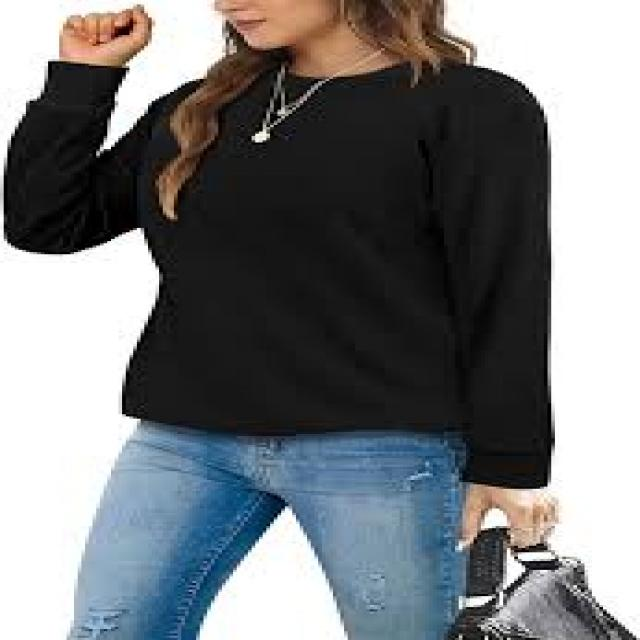plain: (19, 52, 561, 469)
